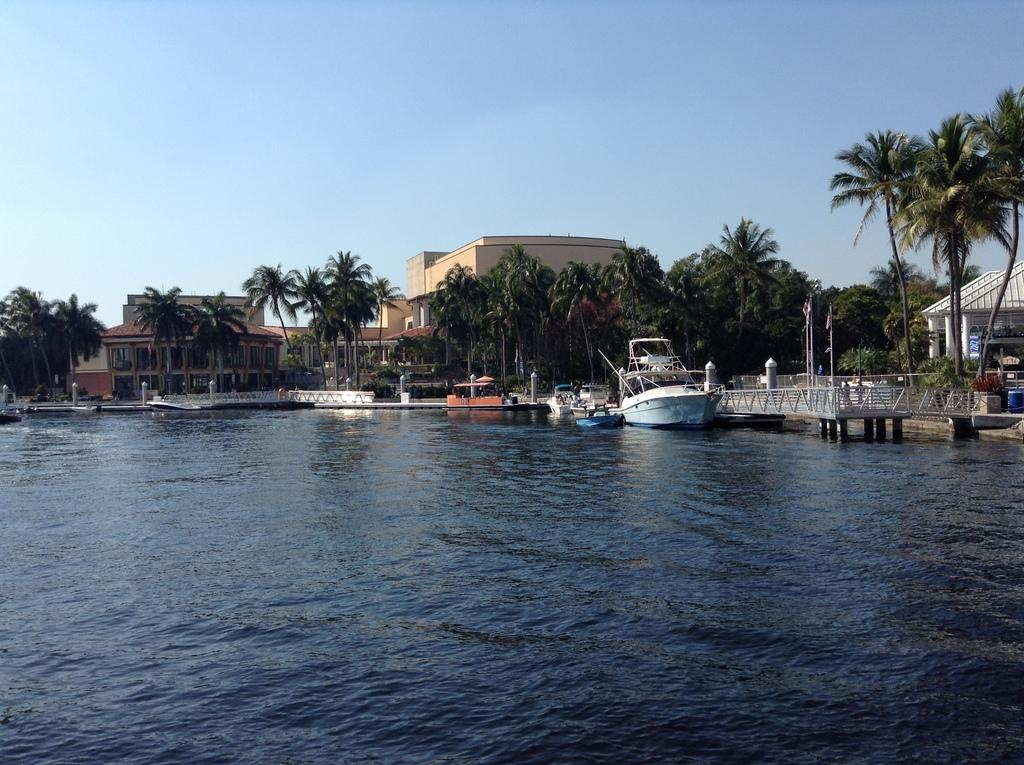PassengerShip: (602, 330, 730, 430)
